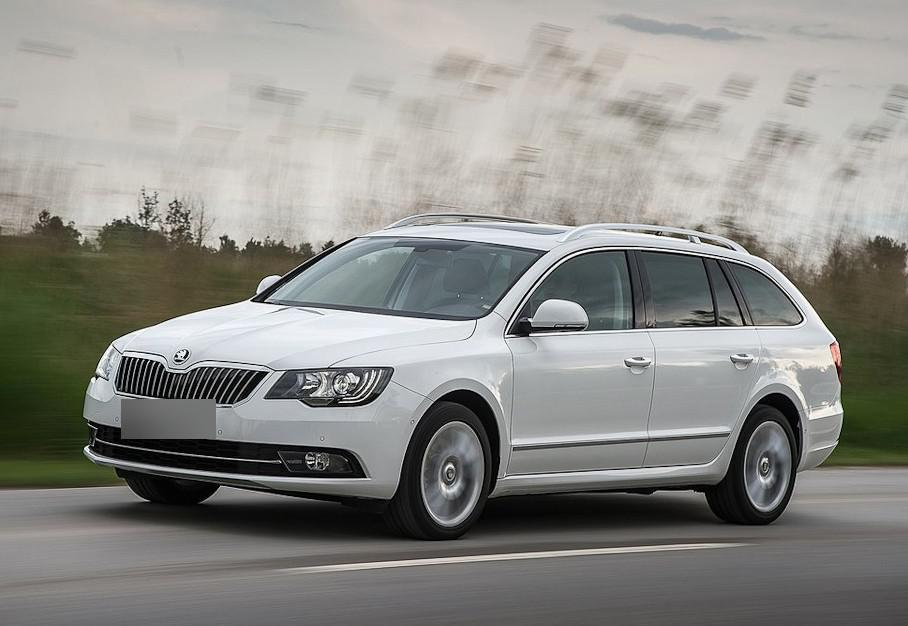Wagon: (80, 212, 846, 539)
